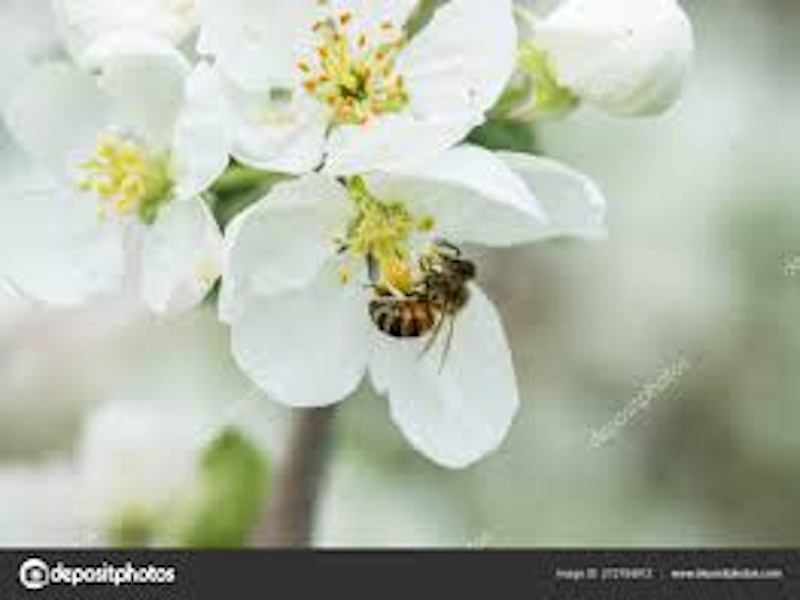abeja: (364, 215, 515, 349)
